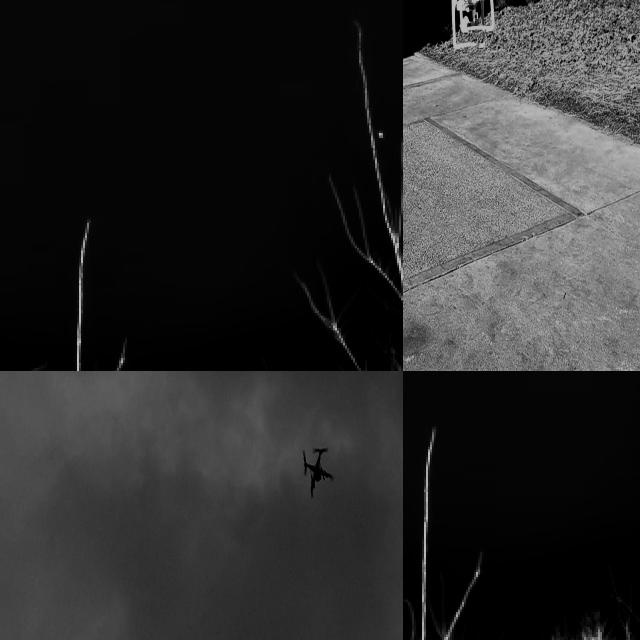0: (373, 126, 389, 148)
drone: (430, 0, 512, 45), (296, 440, 336, 498)
